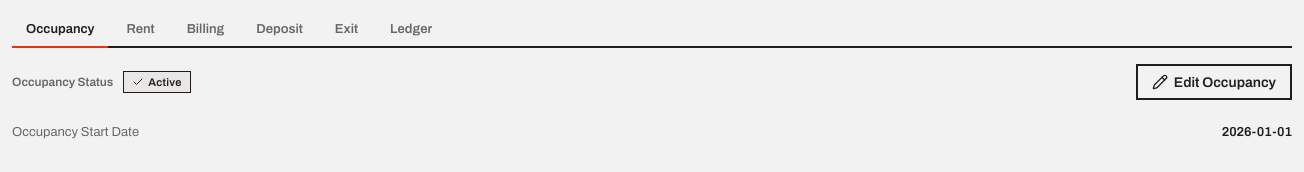
Test case: UnitOccupancyTabs — P6.3-J: Bills/Ledger tabs are opt-in, for the historical occupancy page › shows a Ledger tab with this occupancy's entries when supplied
This screenshot has width=1304, height=172.
Step 1. Click the tab "Ledger" → (411, 30), box [376,12,446,48]
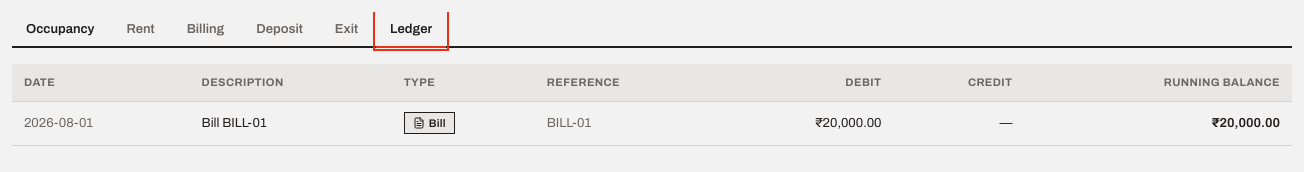
Result: the text "Bill BILL-01" is shown at [190,101,392,146]
